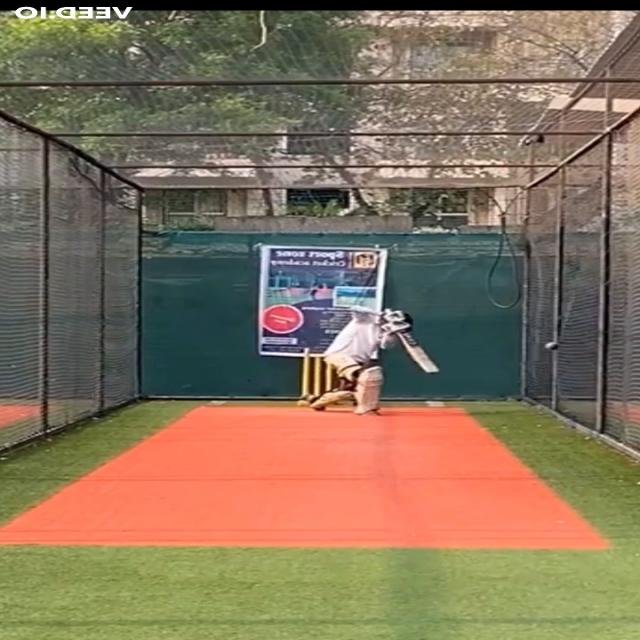ball: (540, 339, 564, 353)
stump: (298, 349, 336, 401)
